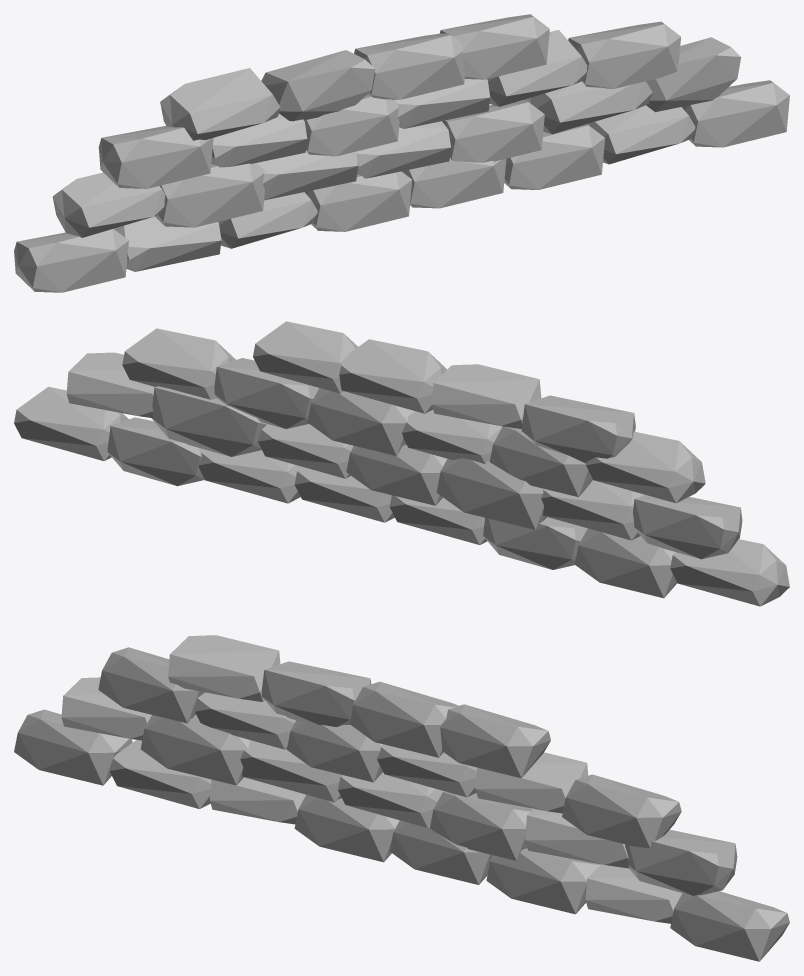
Rendered from stones_015.glb.
3 views of the same model, one above another, from view 1: azimuth 30°, elevation 25°; view 2: azimuth 150°, elevation 25°; view 3: azimuth 330°, elevation 25° (orthographic).
Visible parts, largest first — view 1: stones_015; view 2: stones_015; view 3: stones_015.
Boxes of the visible parts, <box> form: stones_015: <box>14,14,789,292</box>; stones_015: <box>14,321,789,606</box>; stones_015: <box>14,635,789,961</box>.
Size of the model in its own units: 10.01 by 2.22 by 0.8377.
Materials: 1 (1 with a texture image).
